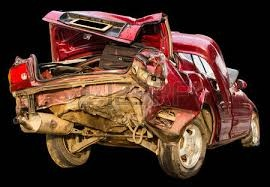Smashed: (17, 25, 242, 156)
